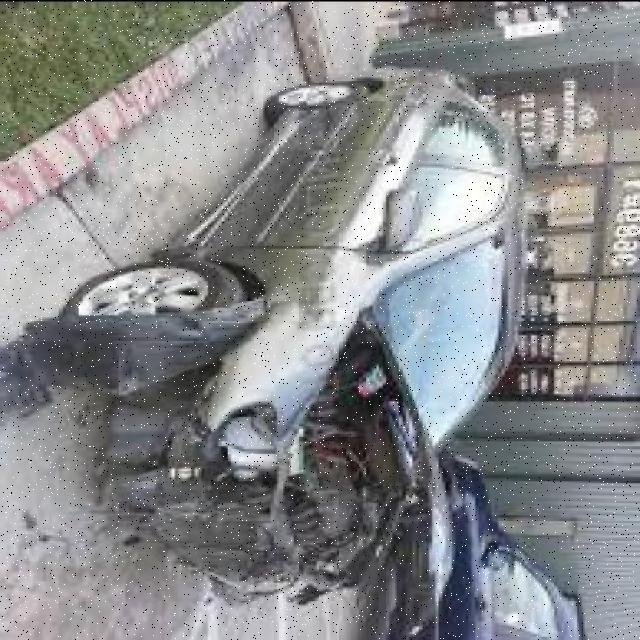damage: (5, 281, 372, 598)
